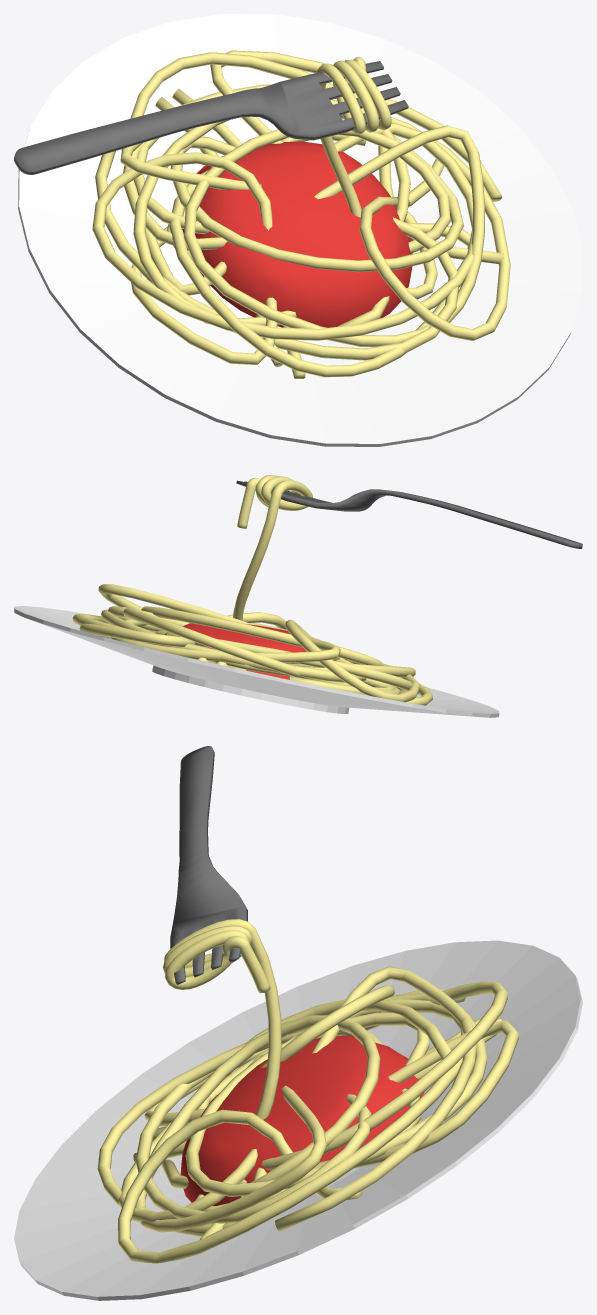
File: spaghetti.gltf
3 renders of one model, top to bottom at view 1: azimuth 30°, elevation 25°; view 2: azimuth 150°, elevation 25°; view 3: azimuth 270°, elevation 25°, orthographic. The views are drawn at different scales.
Parts seen in each view (by area): view 1: Circle.2247, Cube.421; view 2: Circle.2247, Cube.421; view 3: Circle.2247, Cube.421.
Part boxes in pixels (x1=…): Circle.2247: x1=14, y1=14, x2=582, y2=446; Cube.421: x1=182, y1=141, x2=412, y2=327; Circle.2247: x1=14, y1=475, x2=582, y2=717; Cube.421: x1=165, y1=623, x2=347, y2=679; Circle.2247: x1=14, y1=746, x2=582, y2=1300; Cube.421: x1=180, y1=1035, x2=424, y2=1205.
Bounding box in the file's own units: 2.39 × 1.22 × 1.88.
Materials: 1 (1 with a texture image).
